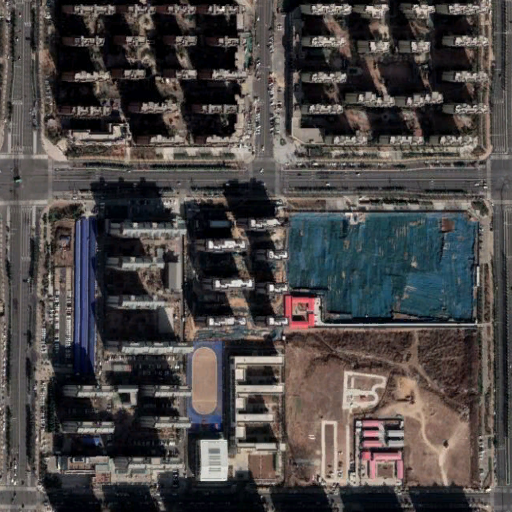cw: (286, 212, 475, 323)
